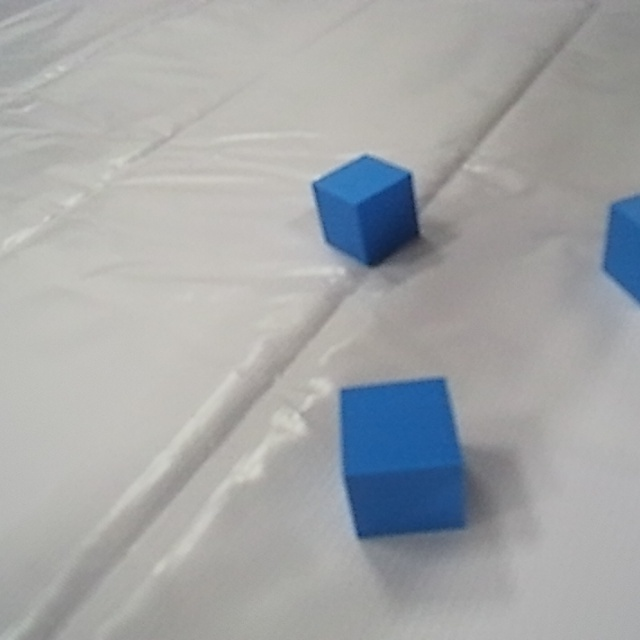blue: (332, 370, 473, 538), (305, 151, 421, 262)
